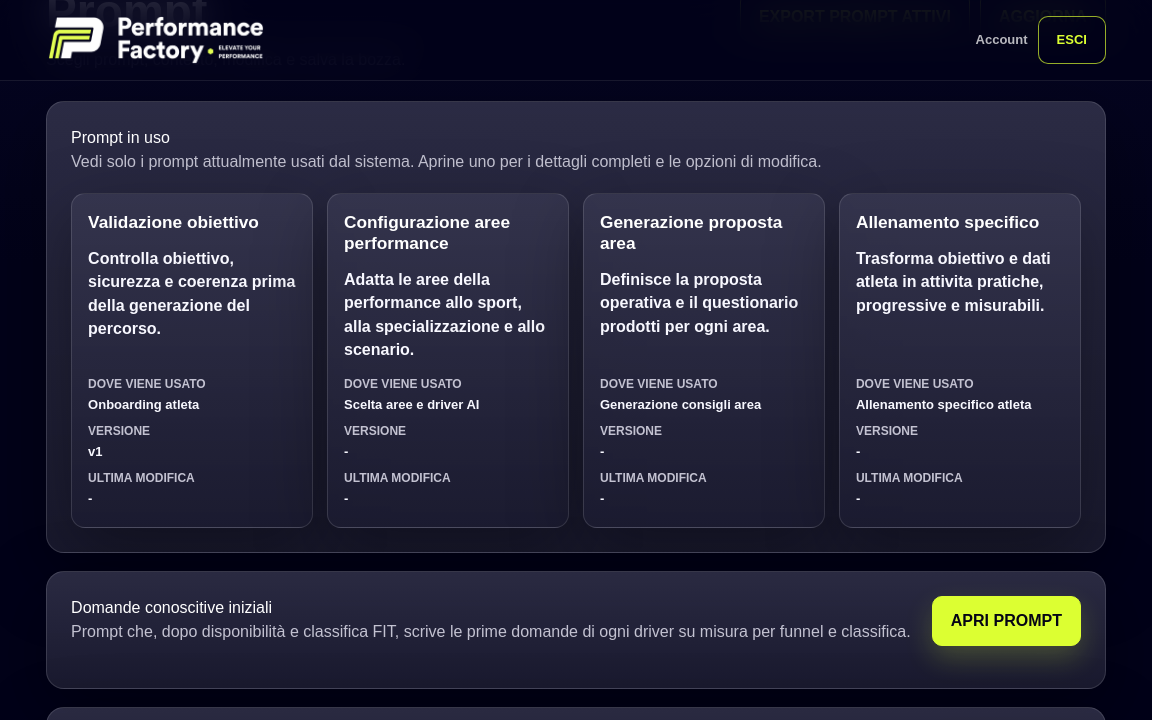
Scenario: prompt management flow › opens the active prompt, edits it and saves an inactive draft
This screenshot has width=1152, height=720.
(page scrolled)
Click the button "Validazione obiettivo" at {"x": 192, "y": 360}, box [71,193,313,528]
(page scrolled)
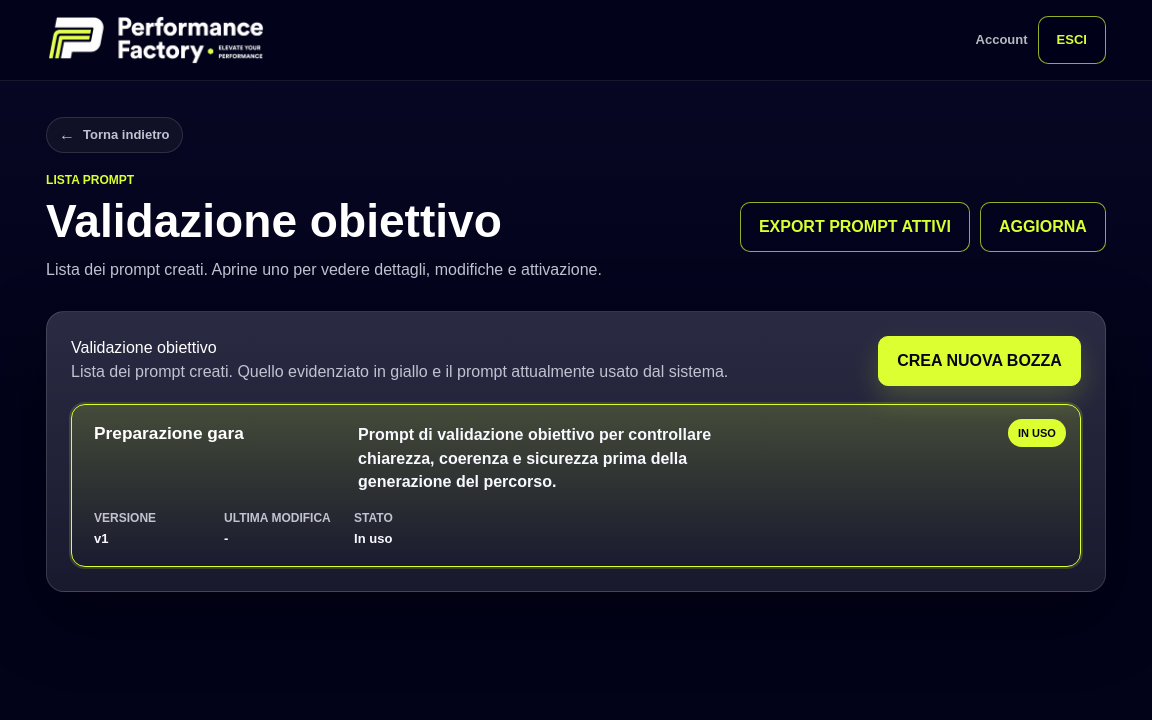
Click the button "Preparazione gara" at {"x": 576, "y": 486}, box [71,404,1081,567]
(page scrolled)
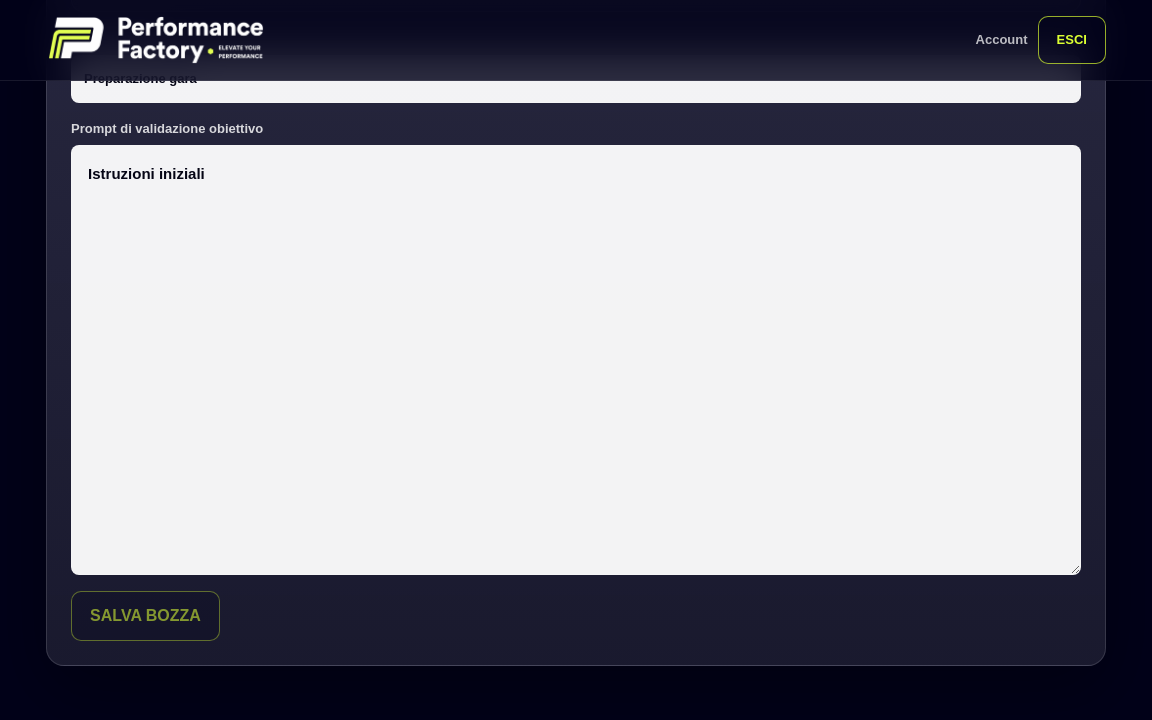
Replace the text in the text box labelled "Prompt di validazione obiettivo" with "Istruzioni aggiornate" at {"x": 576, "y": 360}, box [71,145,1081,575]
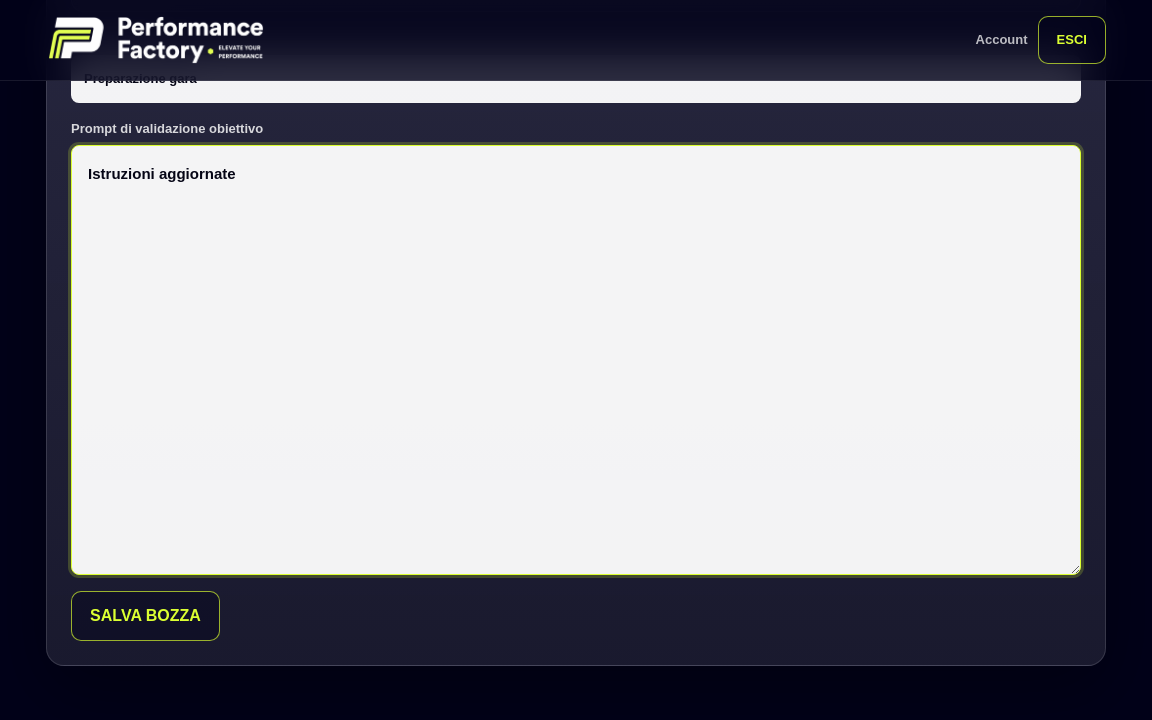
Click the button "Salva bozza" at {"x": 146, "y": 616}, box [71,591,220,641]
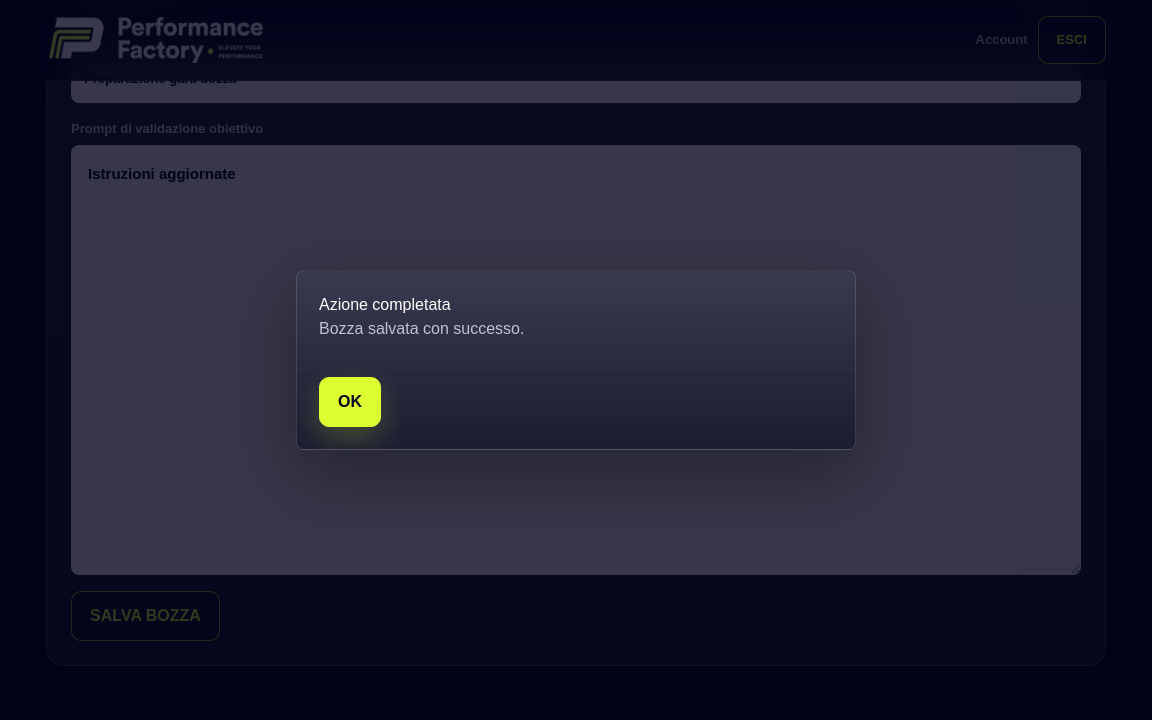
Check: the text "Bozza salvata con successo." is shown, box [319,317,524,341]
